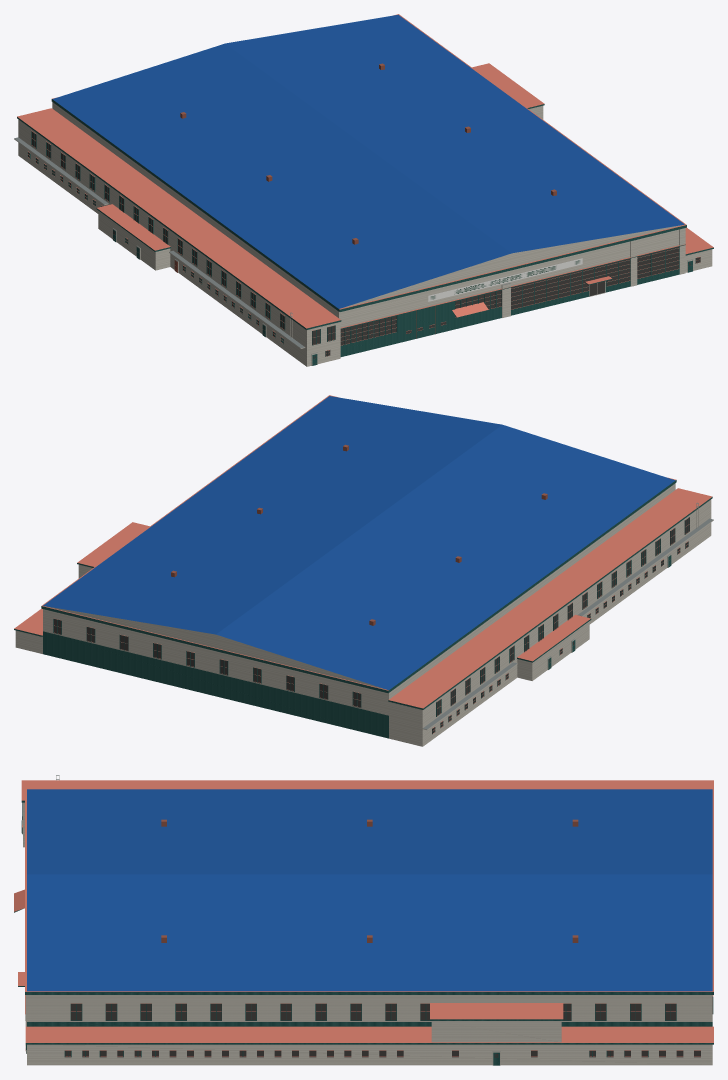
File: cyxd_hangar14_lod1.gltf
3 views of the same model, one above another, from view 1: azimuth 30°, elevation 25°; view 2: azimuth 150°, elevation 25°; view 3: azimuth 270°, elevation 25° (orthographic). The views are drawn at different scales.
Parts seen in each view (by area): view 1: cyxd_hangar14; view 2: cyxd_hangar14; view 3: cyxd_hangar14.
Part boxes in pixels (x1,y1,x2,y2): cyxd_hangar14: [14, 14, 713, 366]; cyxd_hangar14: [14, 395, 713, 746]; cyxd_hangar14: [14, 775, 713, 1065].
Size of the model in its own units: 85.4 by 11.9 by 102.
